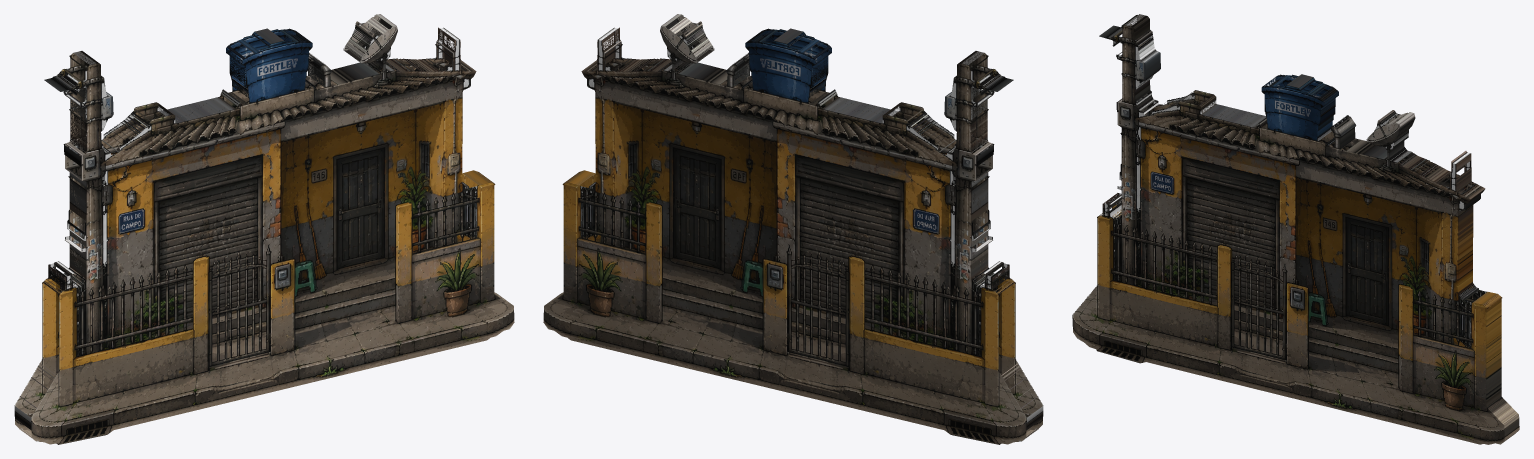
Rendered from house_06_front.fbx.
3 views of the same model, side by side, from view 1: azimuth 30°, elevation 25°; view 2: azimuth 150°, elevation 25°; view 3: azimuth 330°, elevation 25° (orthographic). The views are drawn at different scales.
Visible parts, largest first — view 1: geometry_0; view 2: geometry_0; view 3: geometry_0.
Part boxes in pixels (x1,y1,x2,y2): geometry_0: (14,14,514,444); geometry_0: (543,14,1043,444); geometry_0: (1072,14,1519,444).
Size of the model in its own units: 8.14 by 6.02 by 0.4824.
1 material, 1 textured.
